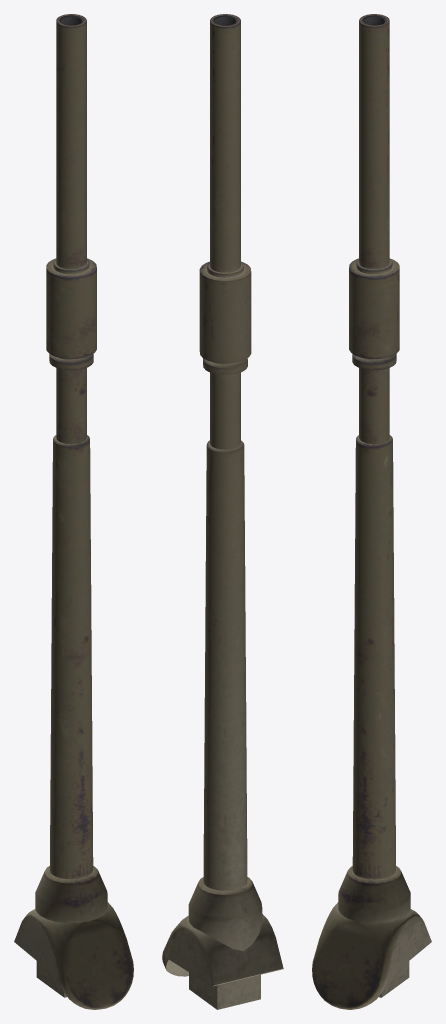
Rendered from Gun_01.glb.
The picture shows the model from 3 angles, left to right: view 1: azimuth 30°, elevation 25°; view 2: azimuth 210°, elevation 25°; view 3: azimuth 330°, elevation 25°; orthographic projection.
Parts seen in each view (by area): view 1: set_0_group_0; view 2: set_0_group_0; view 3: set_0_group_0.
Boxes of the visible parts, x1,y1,x2,y2 form: set_0_group_0: (14,14,133,1009); set_0_group_0: (162,14,283,1009); set_0_group_0: (312,14,431,1009).
Size of the model in its own units: 0.4495 by 5.84 by 0.6376.
1 material, 1 textured.
